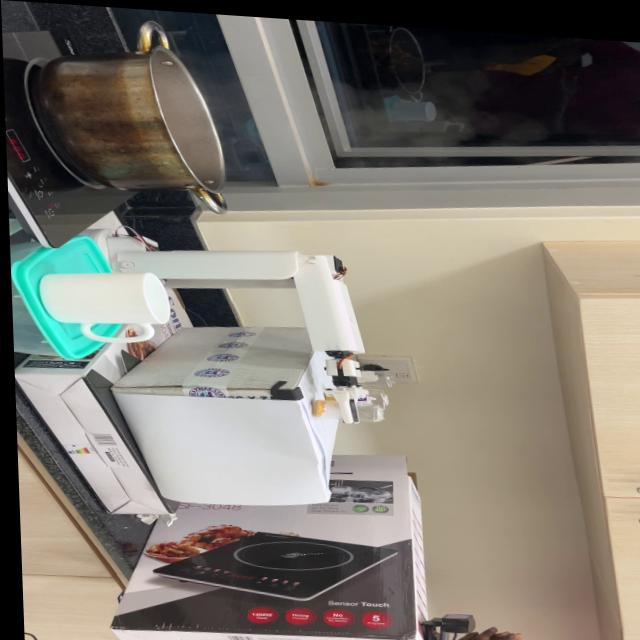cooking_pot: (29, 6, 224, 223)
garlic_powder: (306, 397, 325, 415)
